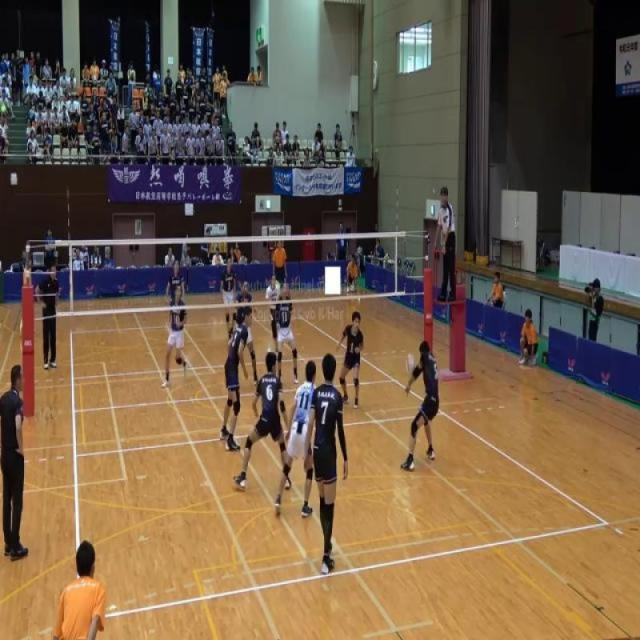volleyball: (405, 352, 416, 376), (350, 284, 355, 293)
